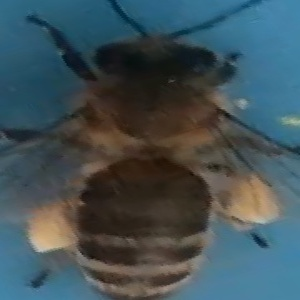bee: (32, 9, 295, 300)
